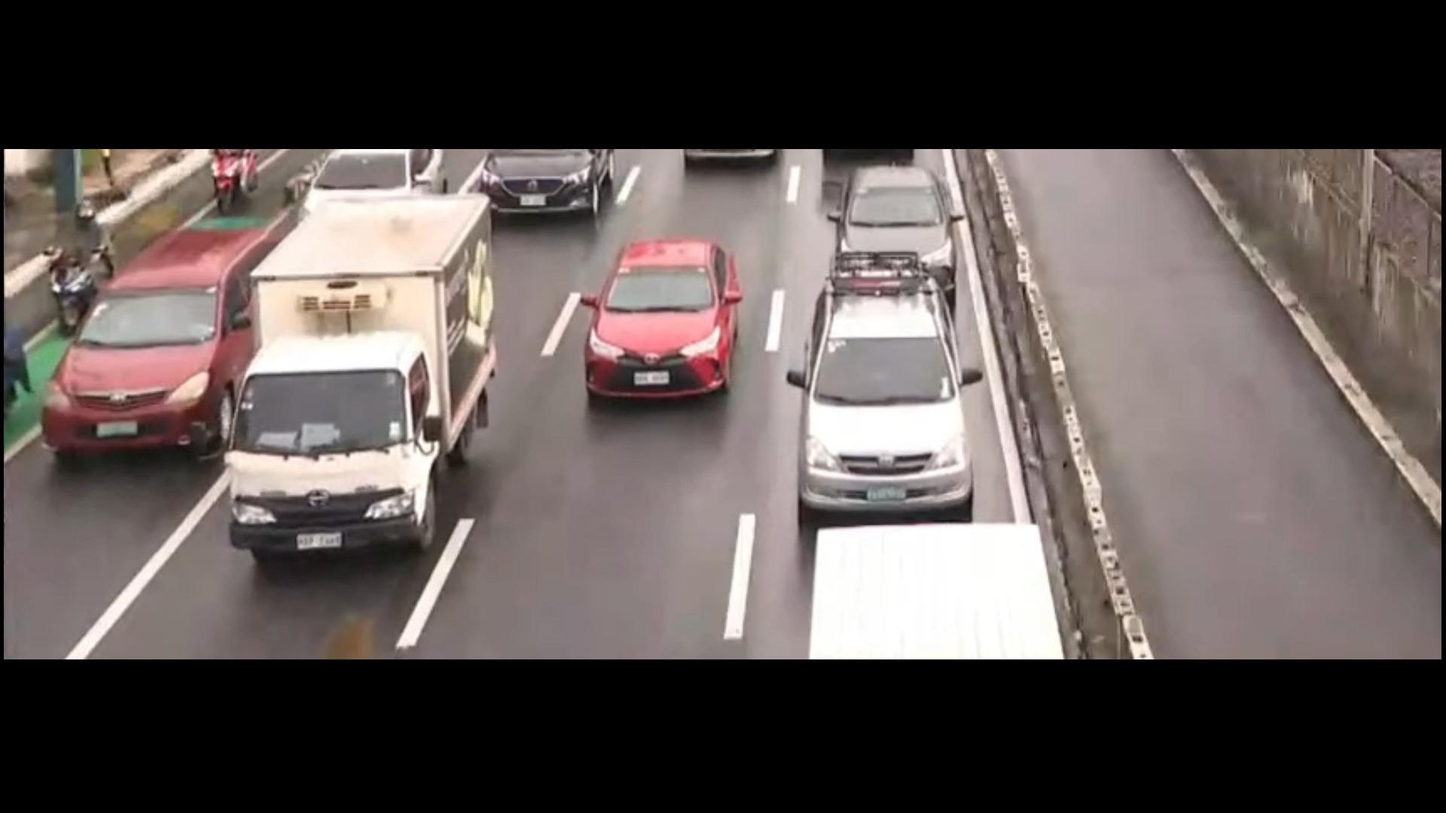Motorcycle: (31, 194, 134, 336), (200, 147, 270, 223)
SUV: (16, 217, 298, 480), (789, 253, 976, 532), (810, 157, 969, 310), (295, 147, 454, 226)
Sedan: (570, 204, 746, 422)
Truck: (206, 185, 509, 568)
